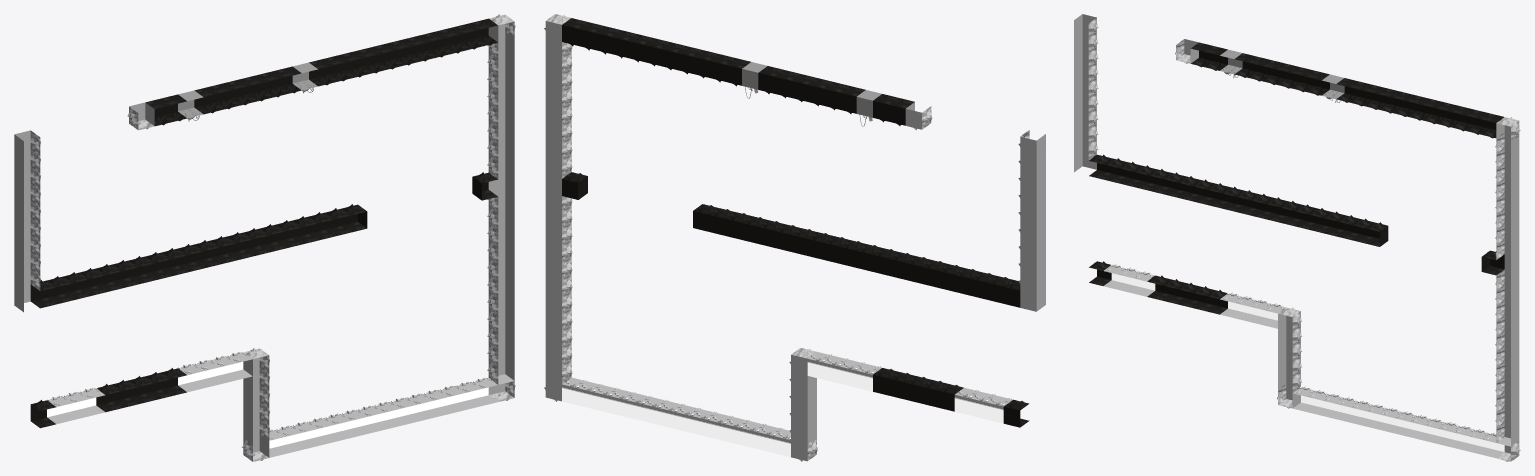
Rendered from Cubi_Room9.fbx.
The picture shows the model from 3 angles, left to right: view 1: azimuth 30°, elevation 25°; view 2: azimuth 150°, elevation 25°; view 3: azimuth 330°, elevation 25°; orthographic projection. The views are drawn at different scales.
Visible parts, largest first — view 1: Cubes_Room9; view 2: Cubes_Room9; view 3: Cubes_Room9.
Boxes of the visible parts, x1=… form: Cubes_Room9: x1=14, y1=14, x2=515, y2=461; Cubes_Room9: x1=544, y1=14, x2=1045, y2=461; Cubes_Room9: x1=1074, y1=14, x2=1520, y2=461.
Bounding box in the file's own units: 3022 × 2245 × 100.
